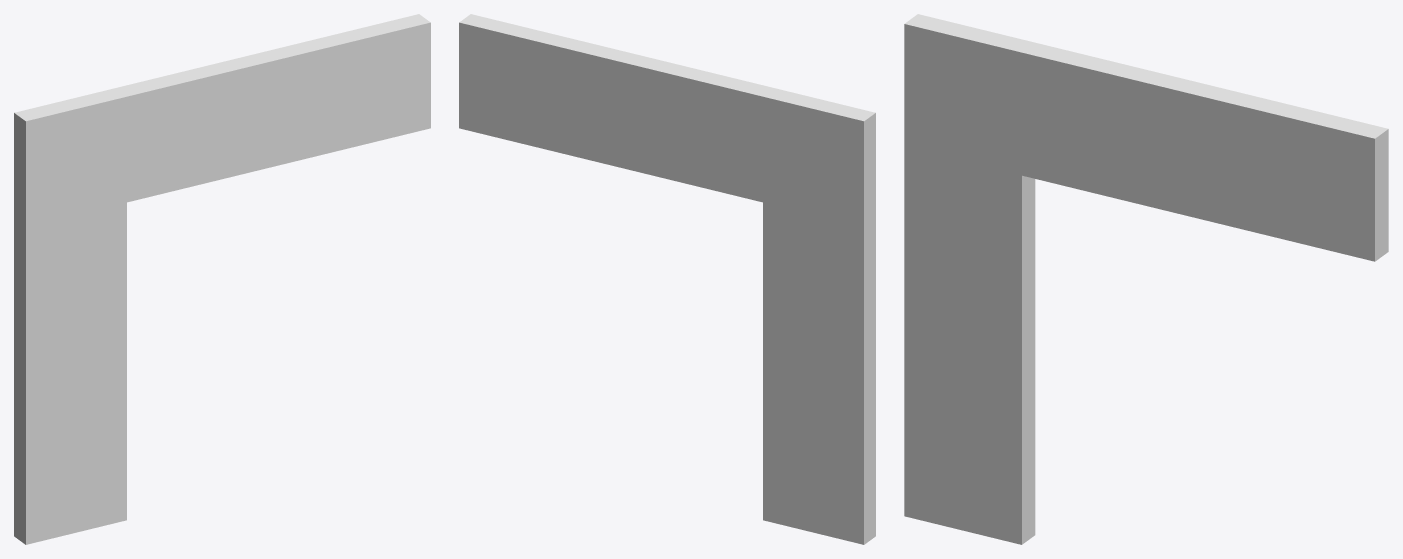
The model's file is Walls_002.glb.
3 views of the same model, side by side, from view 1: azimuth 30°, elevation 25°; view 2: azimuth 150°, elevation 25°; view 3: azimuth 330°, elevation 25° (orthographic). The views are drawn at different scales.
Visible parts, largest first — view 1: Walls_002; view 2: Walls_002; view 3: Walls_002.
Boxes of the visible parts, x1,y1,x2,y2 form: Walls_002: (14,14,430,544); Walls_002: (459,14,875,544); Walls_002: (904,14,1388,544).
Bounding box in the file's own units: 4 × 4 × 0.1999.
1 material, 1 textured.
